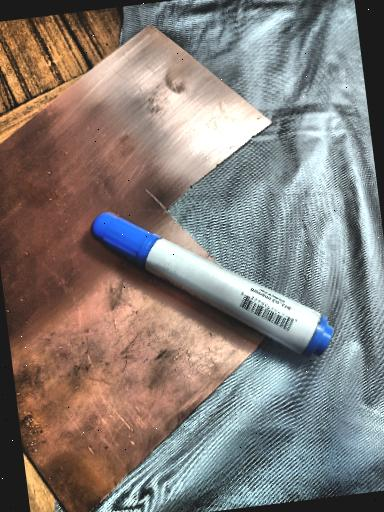marcador azul: (91, 212, 332, 357)
